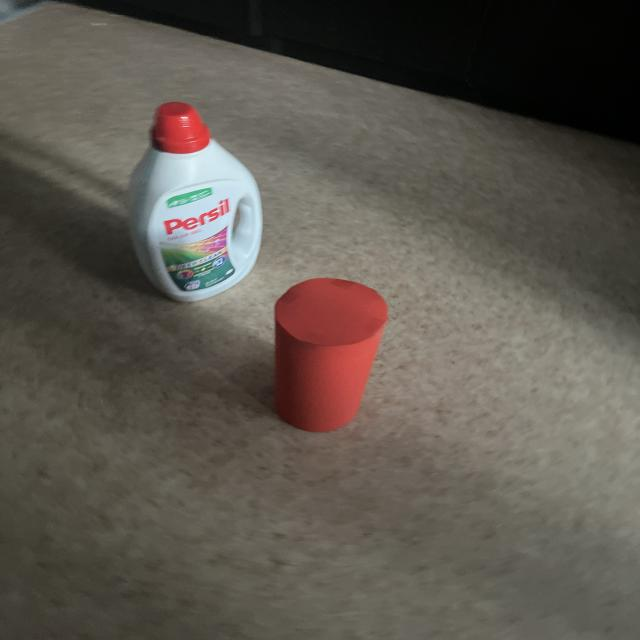przeszkoda: (274, 278, 388, 432)
